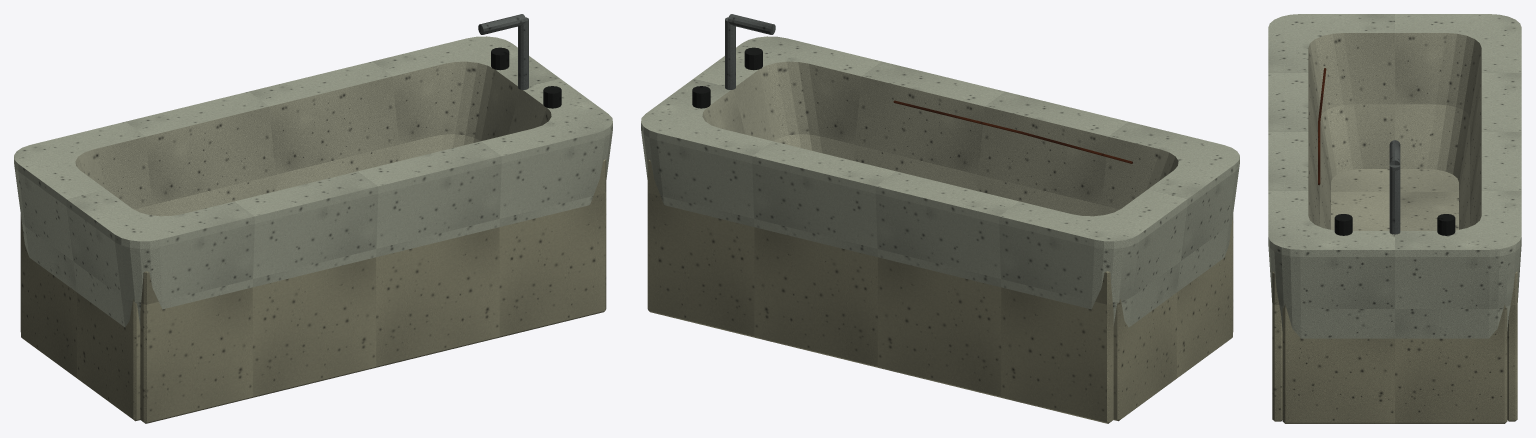
Rendered from bathtub_old.glb.
3 views of the same model, side by side, from view 1: azimuth 30°, elevation 25°; view 2: azimuth 150°, elevation 25°; view 3: azimuth 270°, elevation 25° (orthographic). The views are drawn at different scales.
Parts seen in each view (by area): view 1: PROP_bathtub_old; view 2: PROP_bathtub_old; view 3: PROP_bathtub_old.
Part boxes in pixels (x1,y1,x2,y2): PROP_bathtub_old: (14,14,612,423); PROP_bathtub_old: (641,14,1239,423); PROP_bathtub_old: (1268,14,1521,423).
Bounding box in the file's own units: 1.74 × 0.867 × 0.79.
Materials: 6 (6 with a texture image).
